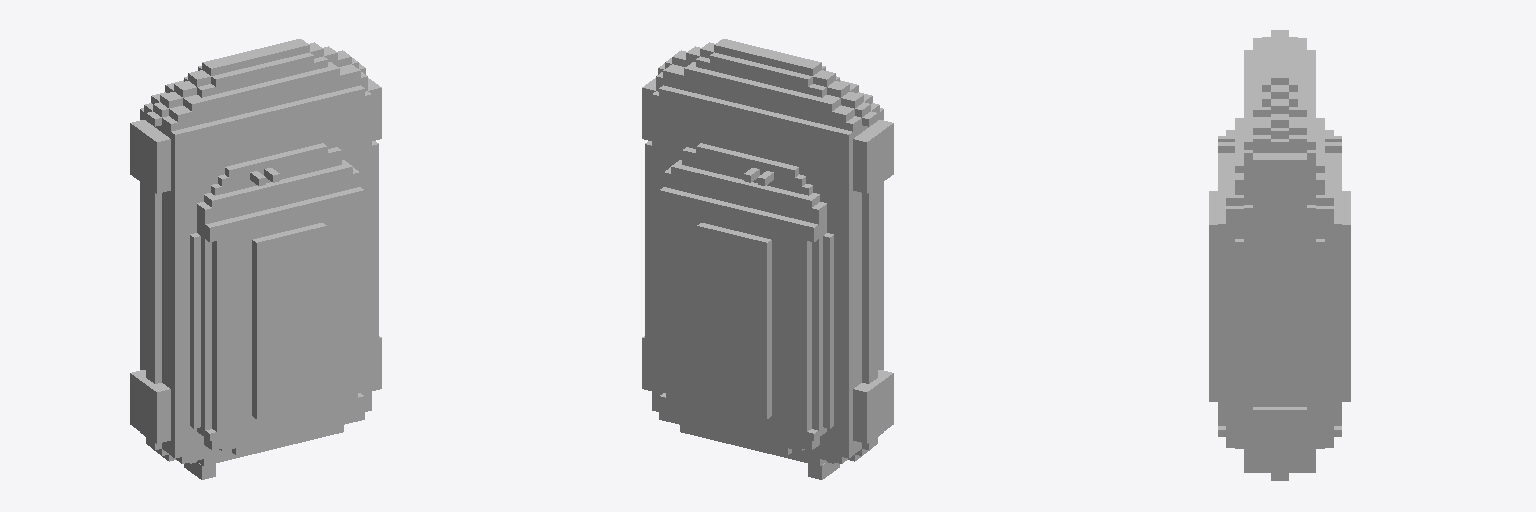
File: Cunt Car.obj
3 renders of one model, left to right at view 1: azimuth 30°, elevation 25°; view 2: azimuth 150°, elevation 25°; view 3: azimuth 270°, elevation 25°, orthographic.
Bounding box in the file's own units: 32 × 55 × 17.6.